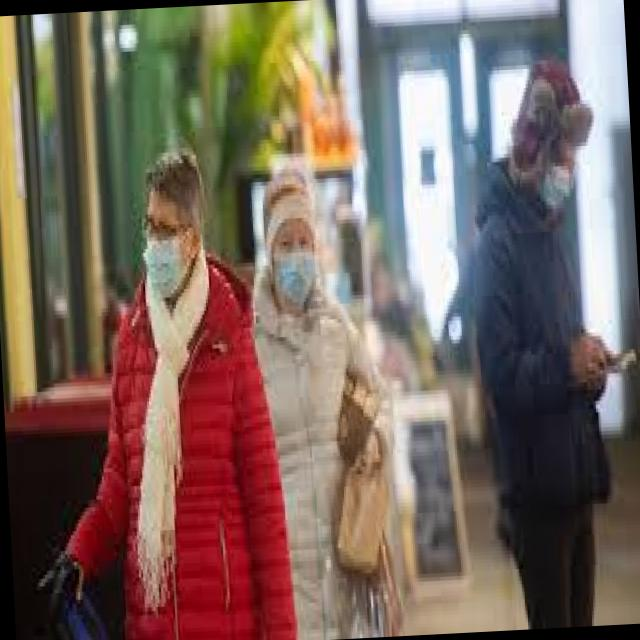Jacket: (87, 261, 290, 640), (233, 274, 420, 640), (462, 162, 632, 540)
